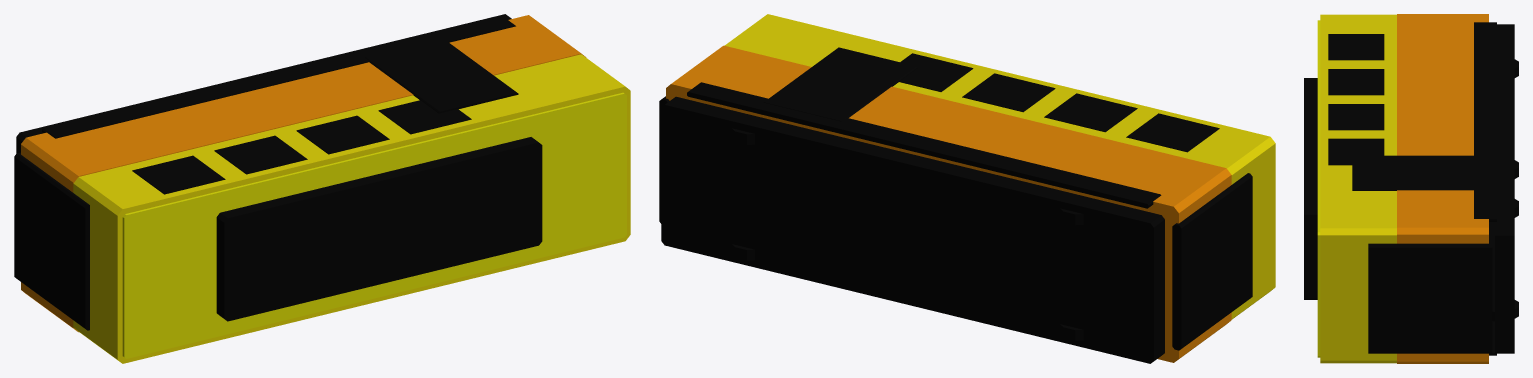
The model's file is trammid-canonical.obj.
3 renders of one model, left to right at view 1: azimuth 30°, elevation 25°; view 2: azimuth 150°, elevation 25°; view 3: azimuth 270°, elevation 25°, orthographic. The views are drawn at different scales.
Visible parts, largest first — view 1: RoofPanel, RoofPack, UpperBody, LowerBody, Gangway_-1, Skirt_1, DoorFrame_1, SideWindow_0_1, SideWindow_1_1, SideWindow_2_1, SideWindow_3_1, Underframe; view 2: Underframe, LowerBody, UpperBody, Gangway_-1, Skirt_1, DoorFrame_1, SideWindow_0_1, SideWindow_1_1, SideWindow_2_1, SideWindow_3_1; view 3: UpperBody, LowerBody, Gangway_1, Underframe, DoorFrame_1, Skirt_1, RoofPack, SideWindow_0_1, SideWindow_1_1, SideWindow_2_1, RoofPanel, SideWindow_3_1 (+1 smaller).
Part boxes in pixels (x1,y1,x2,y2): RoofPanel: (122,92,626,358); RoofPack: (216,137,542,321); UpperBody: (73,54,630,363); LowerBody: (21,15,586,332); Gangway_-1: (14,152,89,330); Skirt_1: (42,16,515,138); DoorFrame_1: (365,38,518,113); SideWindow_0_1: (132,155,225,194); SideWindow_1_1: (214,135,307,174); SideWindow_2_1: (296,115,389,154); SideWindow_3_1: (378,100,471,134); Underframe: (16,14,511,153); Underframe: (661,96,1164,363); LowerBody: (666,45,1231,362); UpperBody: (725,14,1275,319); Gangway_-1: (1172,173,1252,350); Skirt_1: (687,82,1161,208); DoorFrame_1: (764,47,917,121); SideWindow_0_1: (1126,113,1219,152); SideWindow_1_1: (1044,93,1137,132); SideWindow_2_1: (962,73,1055,112); SideWindow_3_1: (899,53,973,91); UpperBody: (1320,14,1396,363); LowerBody: (1397,14,1488,363); Gangway_1: (1368,242,1492,353); Underframe: (1495,24,1514,353); DoorFrame_1: (1352,155,1482,190); Skirt_1: (1474,22,1496,221); RoofPack: (1304,78,1317,299); SideWindow_0_1: (1328,34,1384,60); SideWindow_1_1: (1328,69,1384,95); SideWindow_2_1: (1328,104,1384,130); RoofPanel: (1317,20,1320,357); SideWindow_3_1: (1328,138,1384,165).
Bounding box in the file's own units: 916 × 266 × 374.
